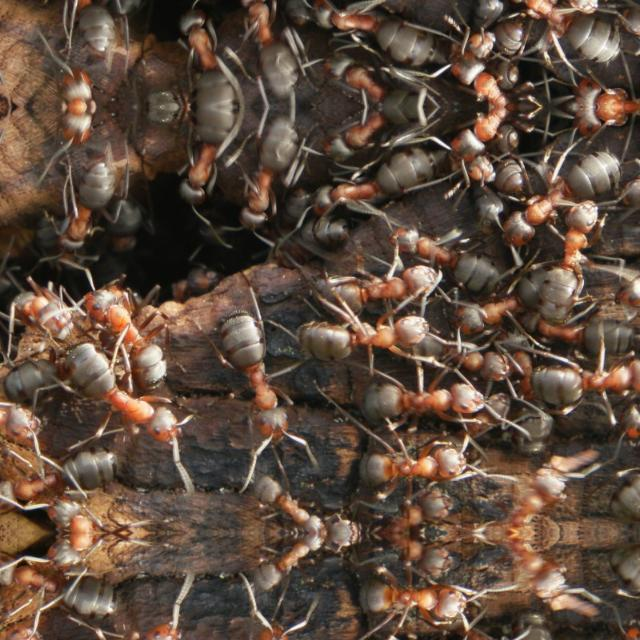Formica: (206, 316, 326, 477), (47, 332, 191, 446), (200, 107, 320, 233), (0, 424, 146, 524), (0, 540, 146, 640), (198, 0, 318, 104), (96, 268, 196, 390), (524, 199, 622, 319), (298, 140, 456, 212), (298, 0, 456, 72), (506, 137, 608, 241), (488, 328, 572, 452), (50, 141, 132, 267), (362, 439, 512, 501), (362, 563, 512, 625), (168, 106, 260, 202), (168, 10, 260, 106), (480, 450, 584, 532), (480, 532, 584, 614), (303, 304, 437, 362), (512, 300, 632, 364), (504, 0, 606, 74), (363, 376, 491, 428), (204, 586, 326, 640), (0, 336, 78, 418), (244, 454, 326, 532), (244, 532, 326, 610), (0, 267, 84, 343), (410, 327, 516, 387), (539, 348, 639, 409), (50, 0, 132, 70), (27, 49, 117, 106), (27, 106, 117, 162), (458, 274, 546, 330), (258, 217, 356, 267), (47, 616, 191, 640), (488, 612, 572, 640)
